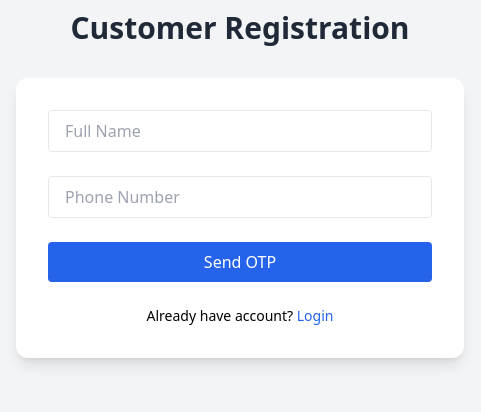
Scenario: SignUp Component › verifies otp and moves to signup step
Type "John" into the field with placeholder "Full Name". click: (240, 131)
box: [48, 110, 432, 152]
Type "1234567890" into the field with placeholder "Phone Number". click: (240, 197)
box: [48, 176, 432, 218]
Click the button "Send OTP". click: click(240, 262)
box: [48, 242, 432, 282]
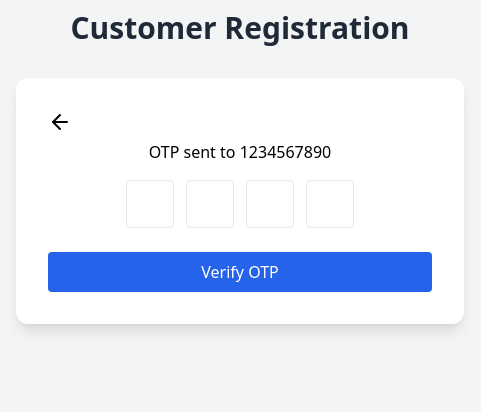
Check: the text "OTP sent to 1234567890" is shown, box [149, 141, 331, 163]
Type "1" into the 1st field. click: (150, 204)
box: [126, 180, 174, 228]
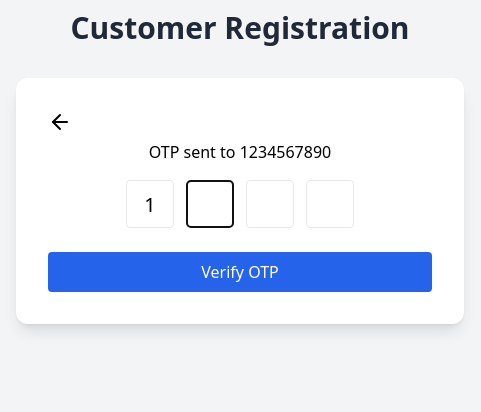
Type "1" into the 2nd field. click: (210, 204)
box: [186, 180, 234, 228]
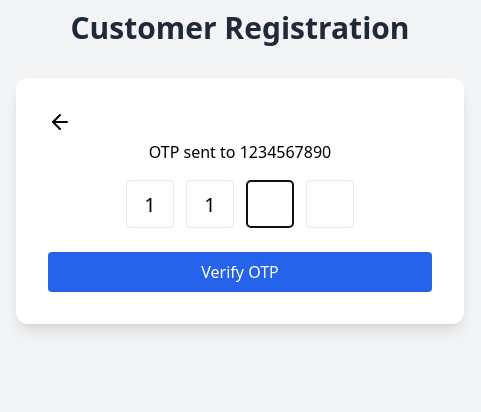
Type "1" into the 3rd field. click: (270, 204)
box: [246, 180, 294, 228]
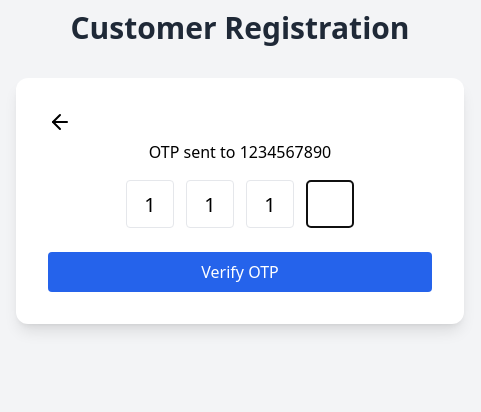
Type "1" into the 4th field. click: (330, 204)
box: [306, 180, 354, 228]
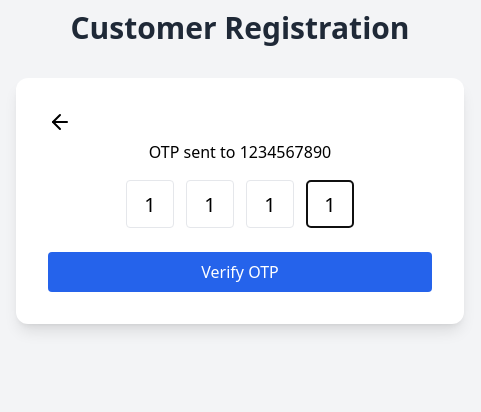
Click the button "Verify OTP". click: click(240, 272)
box: [48, 252, 432, 292]
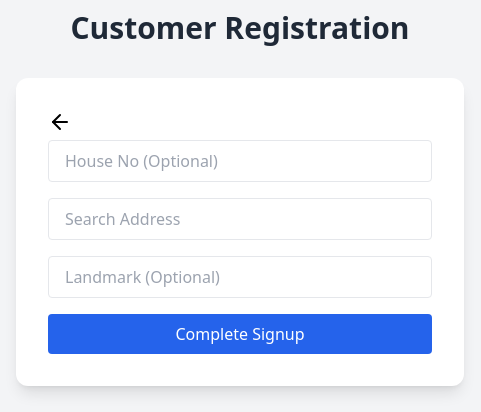
Check: the button "Complete Signup" is shown, box [48, 314, 432, 354]
